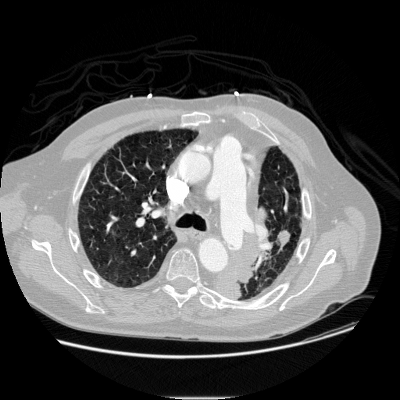nodule: (275, 230, 291, 246)
